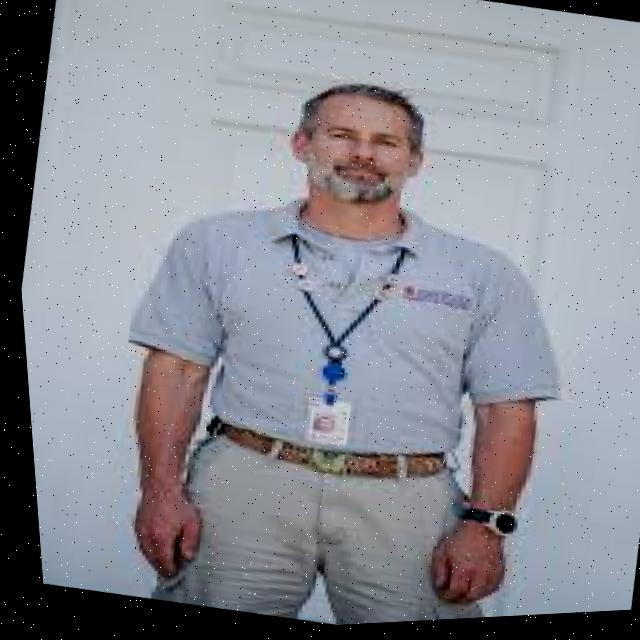id_card: (240, 219, 432, 461)
